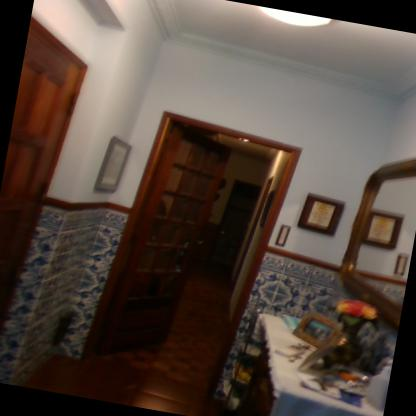open: (89, 85, 324, 412)
